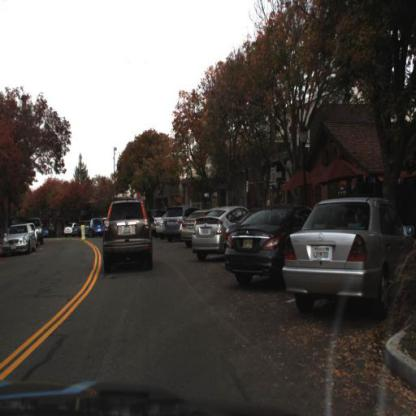car: (281, 194, 415, 318), (224, 204, 312, 286), (97, 194, 154, 272), (191, 206, 245, 260), (1, 221, 36, 257), (220, 213, 242, 257), (162, 205, 188, 242), (181, 209, 198, 244), (162, 208, 181, 239), (154, 210, 168, 238), (89, 217, 105, 236), (64, 220, 78, 234)
